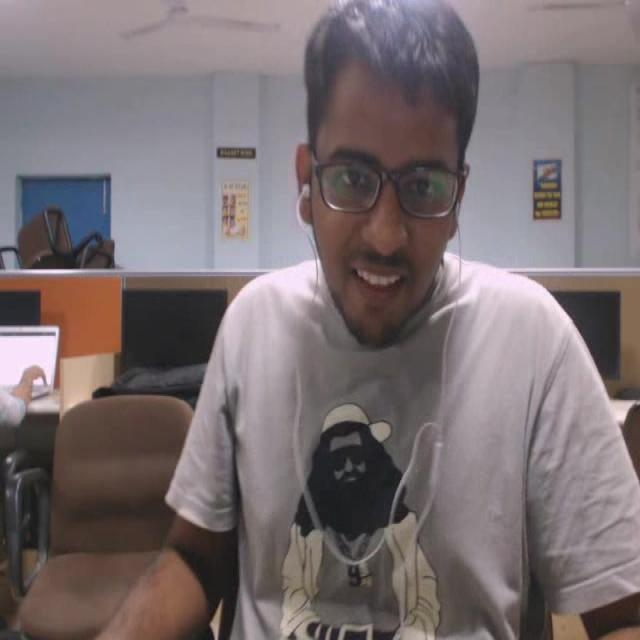Engaged: (294, 6, 504, 392)
